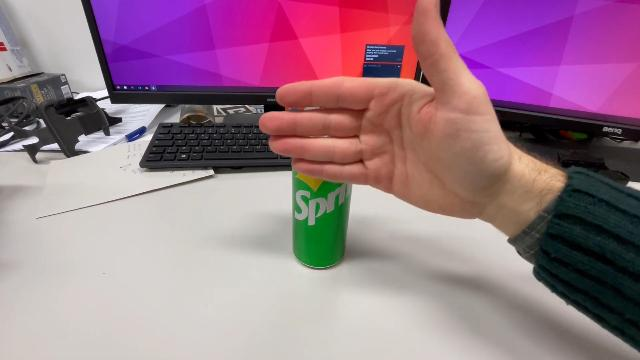Sprite: (288, 130, 354, 272)
